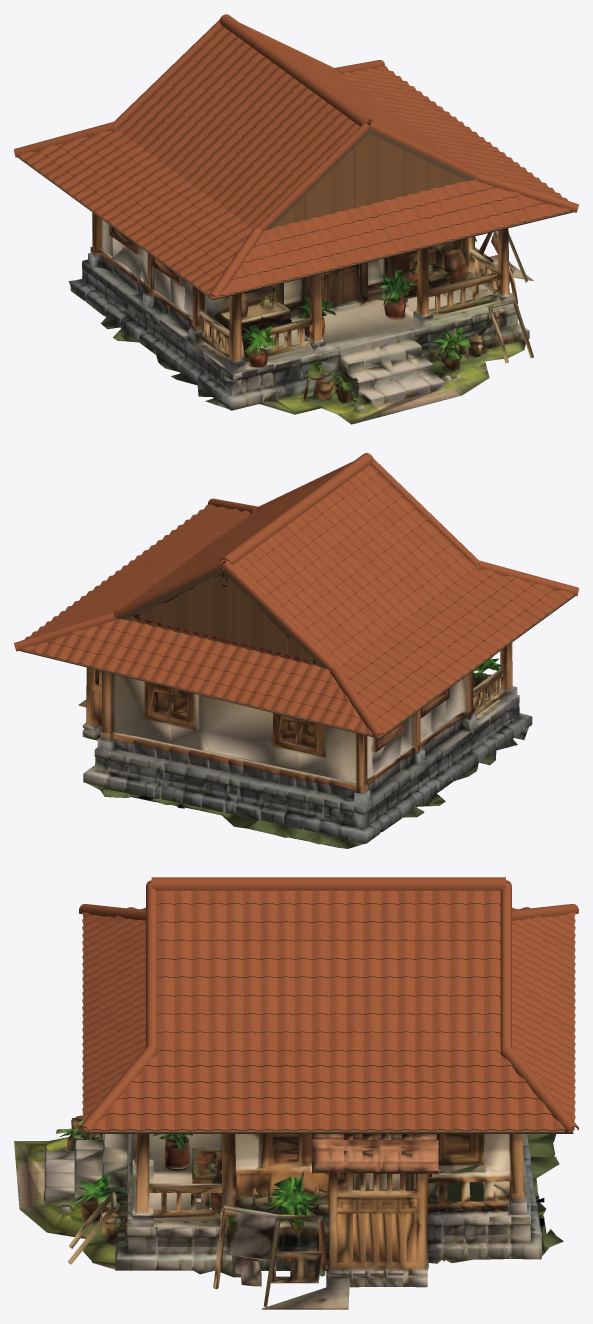
The model's file is player_house_traditional_v4.glb.
3 renders of one model, top to bottom at view 1: azimuth 30°, elevation 25°; view 2: azimuth 150°, elevation 25°; view 3: azimuth 270°, elevation 25°, orthographic. The views are drawn at different scales.
Parts seen in each view (by area): view 1: TraditionalHouseBodyClean, RoofTiles_MainLeft, RoofTiles_SkirtLeft, RoofTiles_SkirtFront, GableTimberBoards_-1, RoofTiles_SkirtRight, RoofTiles_MainRight, RoofRidgeCaps, RoofBargeCaps_-1_-1, RoofBargeCaps_-1_1, RoofBacking_SkirtFront, RoofHipCaps_1_-1 (+5 smaller); view 2: TraditionalHouseBodyClean, RoofTiles_MainLeft, RoofTiles_SkirtLeft, RoofTiles_SkirtBack, GableTimberBoards_1, RoofTiles_SkirtRight, RoofTiles_MainRight, RoofRidgeCaps, RoofBargeCaps_-1_1, RoofBargeCaps_-1_-1, RoofBacking_SkirtBack, RoofHipCaps_1_1 (+6 smaller); view 3: TraditionalHouseBodyClean, RoofTiles_MainRight, RoofTiles_SkirtRight, RoofTiles_SkirtFront, RoofTiles_SkirtBack, RoofRidgeCaps, RoofBargeCaps_1_-1, RoofBargeCaps_1_1, RoofBacking_SkirtRight, RoofHipCaps_1_-1, RoofHipCaps_1_1, RoofHipCaps_-1_-1 (+1 smaller).
Boxes of the visible parts, <box> form: TraditionalHouseBodyClean: <box>68,212,533,424</box>; RoofTiles_MainLeft: <box>113,26,359,228</box>; RoofTiles_SkirtLeft: <box>18,127,252,297</box>; RoofTiles_SkirtFront: <box>213,179,571,298</box>; GableTimberBoards_-1: <box>271,134,466,228</box>; RoofTiles_SkirtRight: <box>338,66,567,200</box>; RoofTiles_MainRight: <box>254,33,468,168</box>; RoofRidgeCaps: <box>219,14,373,126</box>; RoofBargeCaps_-1_-1: <box>256,122,370,232</box>; RoofBargeCaps_-1_1: <box>113,20,222,127</box>; RoofBacking_SkirtFront: <box>213,211,573,299</box>; RoofHipCaps_1_-1: <box>477,173,578,212</box>; TraditionalHouseBodyClean: <box>78,572,532,848</box>; RoofTiles_MainLeft: <box>233,465,479,667</box>; RoofTiles_SkirtLeft: <box>340,566,574,736</box>; RoofTiles_SkirtBack: <box>21,617,379,736</box>; GableTimberBoards_1: <box>126,576,321,667</box>; RoofTiles_SkirtRight: <box>25,504,254,639</box>; RoofTiles_MainRight: <box>124,471,339,606</box>; RoofRidgeCaps: <box>219,453,373,564</box>; RoofBargeCaps_-1_1: <box>222,561,336,670</box>; RoofBargeCaps_-1_-1: <box>370,459,479,566</box>; RoofBacking_SkirtBack: <box>19,649,379,738</box>; RoofHipCaps_1_1: <box>14,611,115,651</box>; TraditionalHouseBodyClean: <box>14,1112,563,1309</box>; RoofTiles_MainRight: <box>156,890,501,1051</box>; RoofTiles_SkirtRight: <box>84,1050,573,1131</box>; RoofTiles_SkirtFront: <box>82,912,145,1130</box>; RoofTiles_SkirtBack: <box>512,912,575,1130</box>; RoofRidgeCaps: <box>151,877,505,890</box>; RoofBargeCaps_1_-1: <box>146,883,157,1050</box>; RoofBargeCaps_1_1: <box>500,883,511,1050</box>; RoofBacking_SkirtRight: <box>84,1129,573,1133</box>; RoofHipCaps_1_-1: <box>79,1046,157,1133</box>; RoofHipCaps_1_1: <box>500,1046,578,1133</box>; RoofHipCaps_-1_-1: <box>79,904,145,920</box>.
Bounding box in the file's own units: 0.9865 × 0.592 × 0.9854.
Materials: 4 (2 with a texture image).
